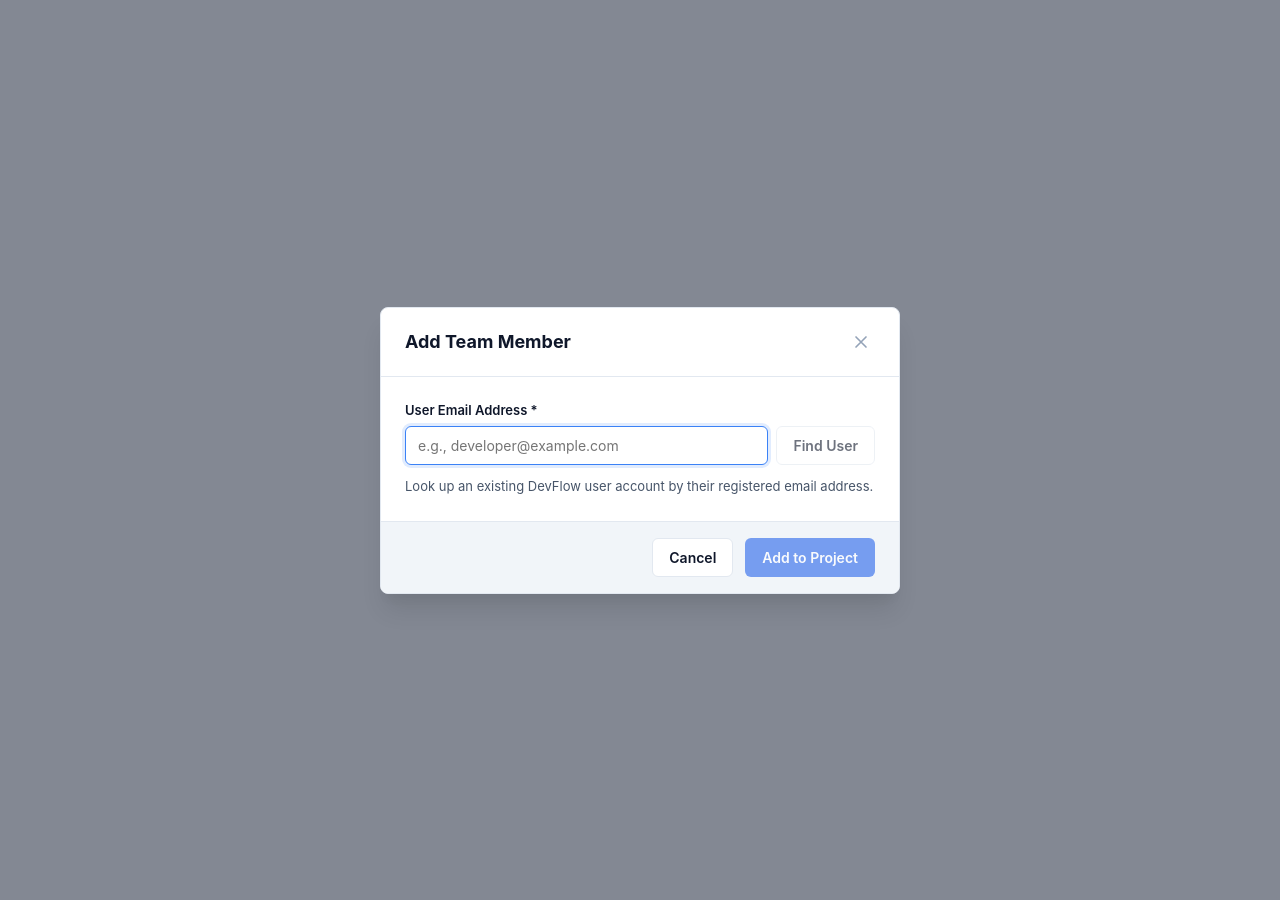
Test: AddMemberModal Component › displays not found alert when email does not exist
Type "unknown@example.com" into the field labelled "User Email Address *" at (587, 446), box [405,426,768,465]
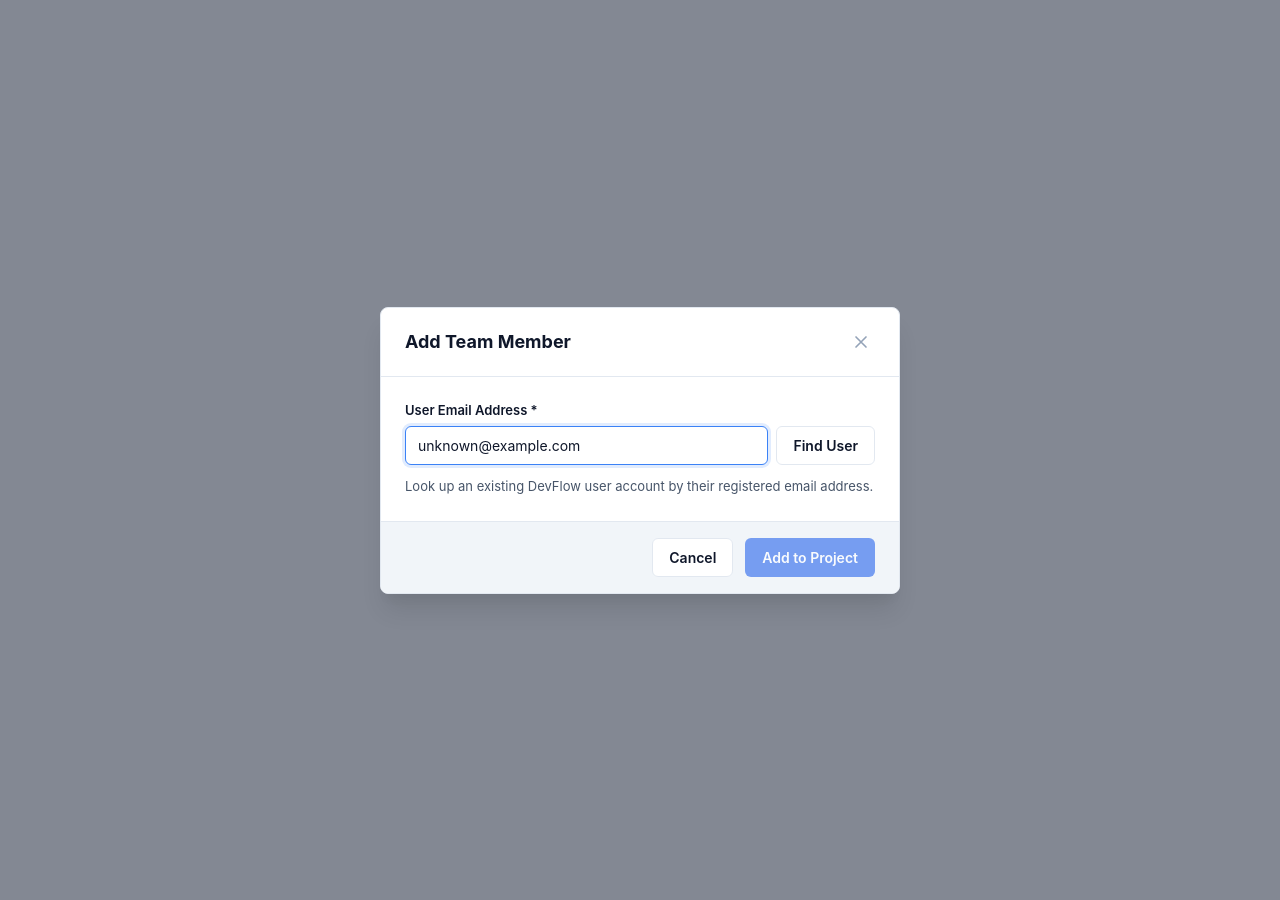
Click the button "Find User" at (826, 446), box [776,426,875,465]
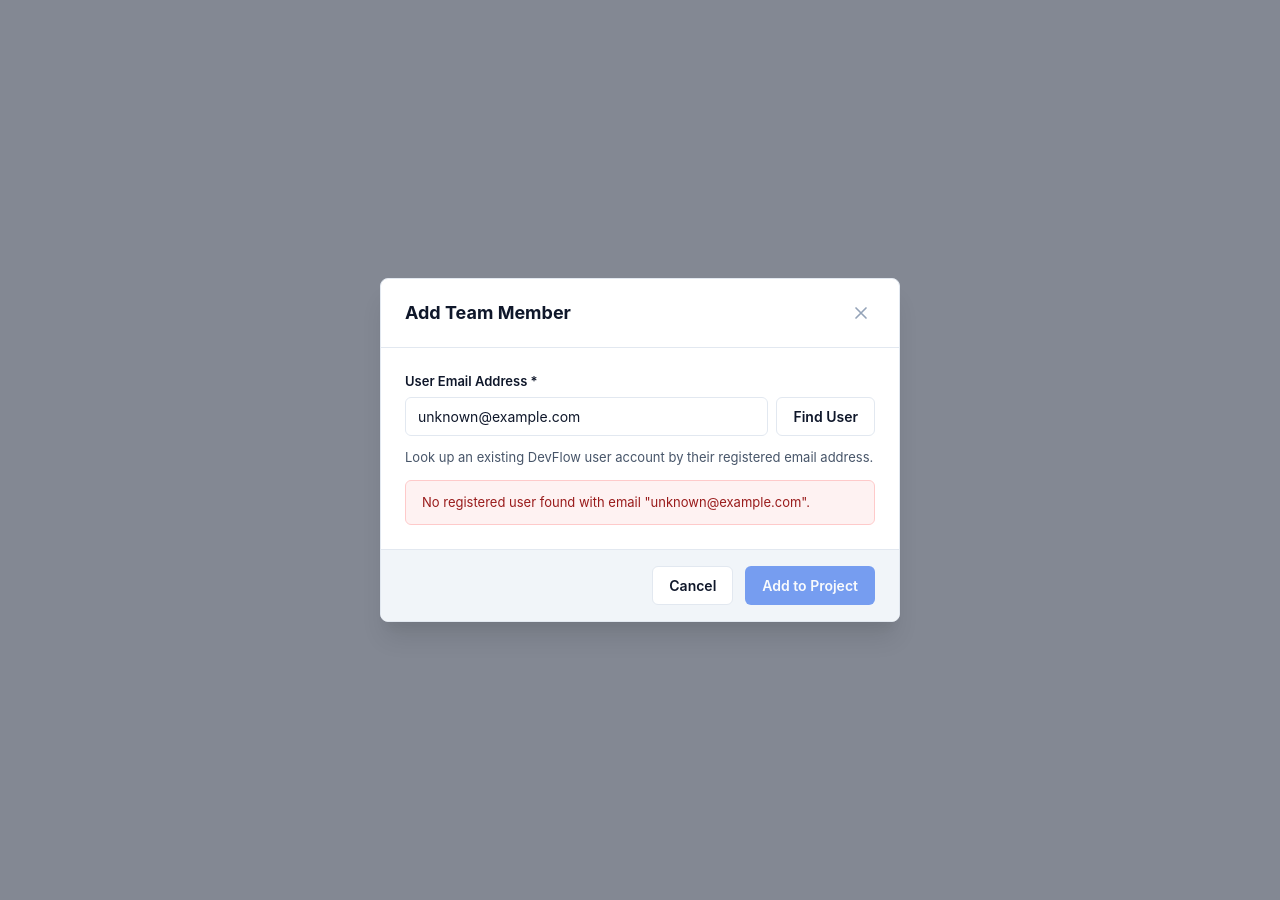
Expected: the message shows "No registered user found with email \"unknown@example.com\"", [422,494,810,510]
